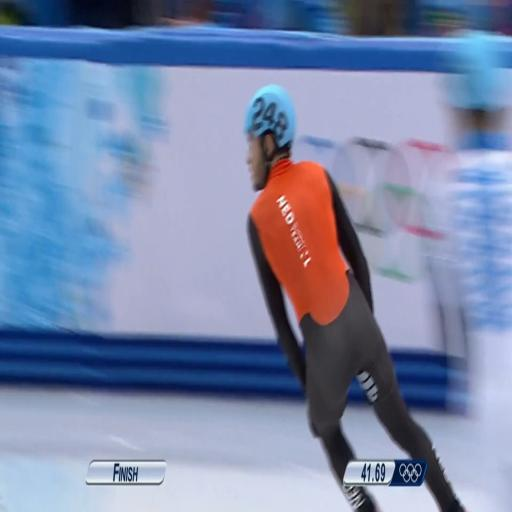Skater: (245, 85, 462, 511)
